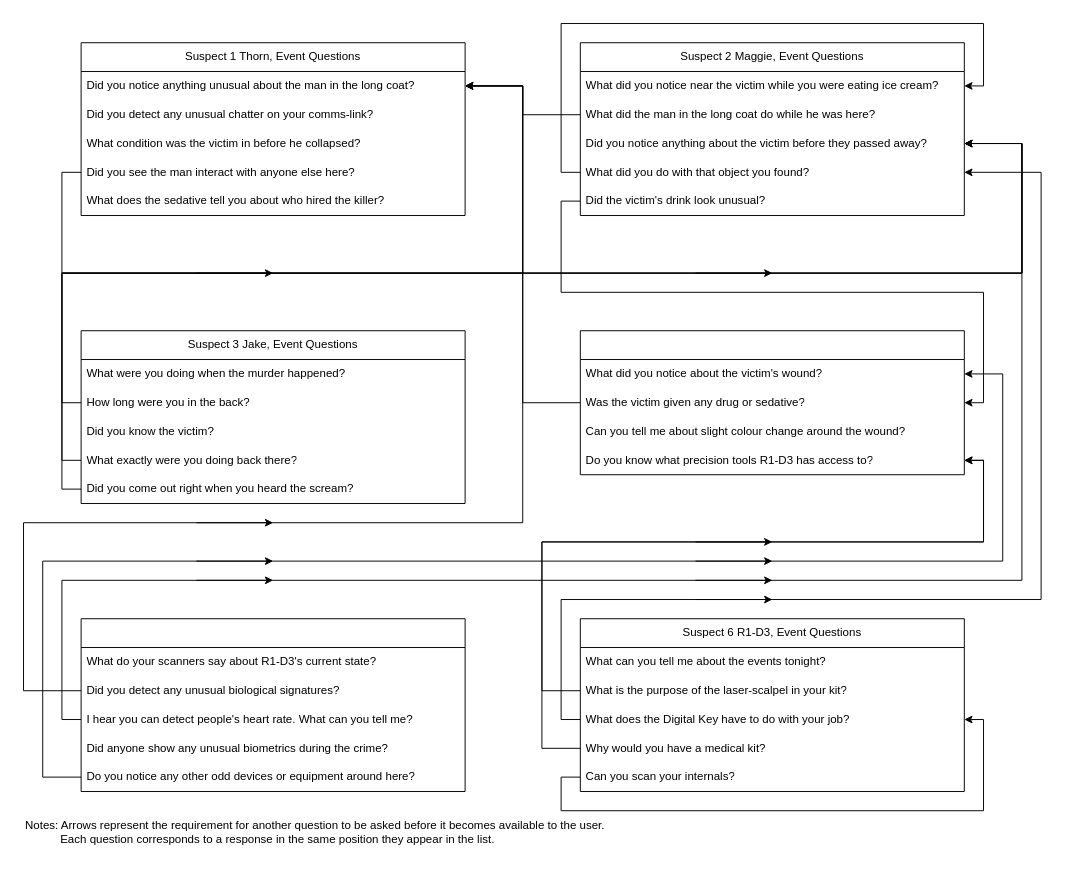
This 1066x876 diagram has some shape labels left out. Here are the shapes that lost their labels. From the top down, the box of each, then its label:
(579, 330, 964, 475): Suspect 4 Evelyn, Event Questions
(80, 618, 465, 792): Suspect 5 Zylox, Event Questions
